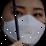with_mask: (1, 2, 46, 46)
